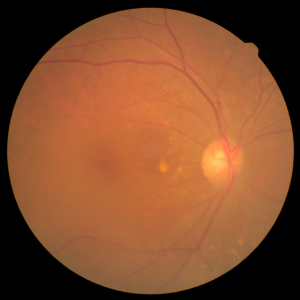retina_disease: (94, 105, 267, 213)
